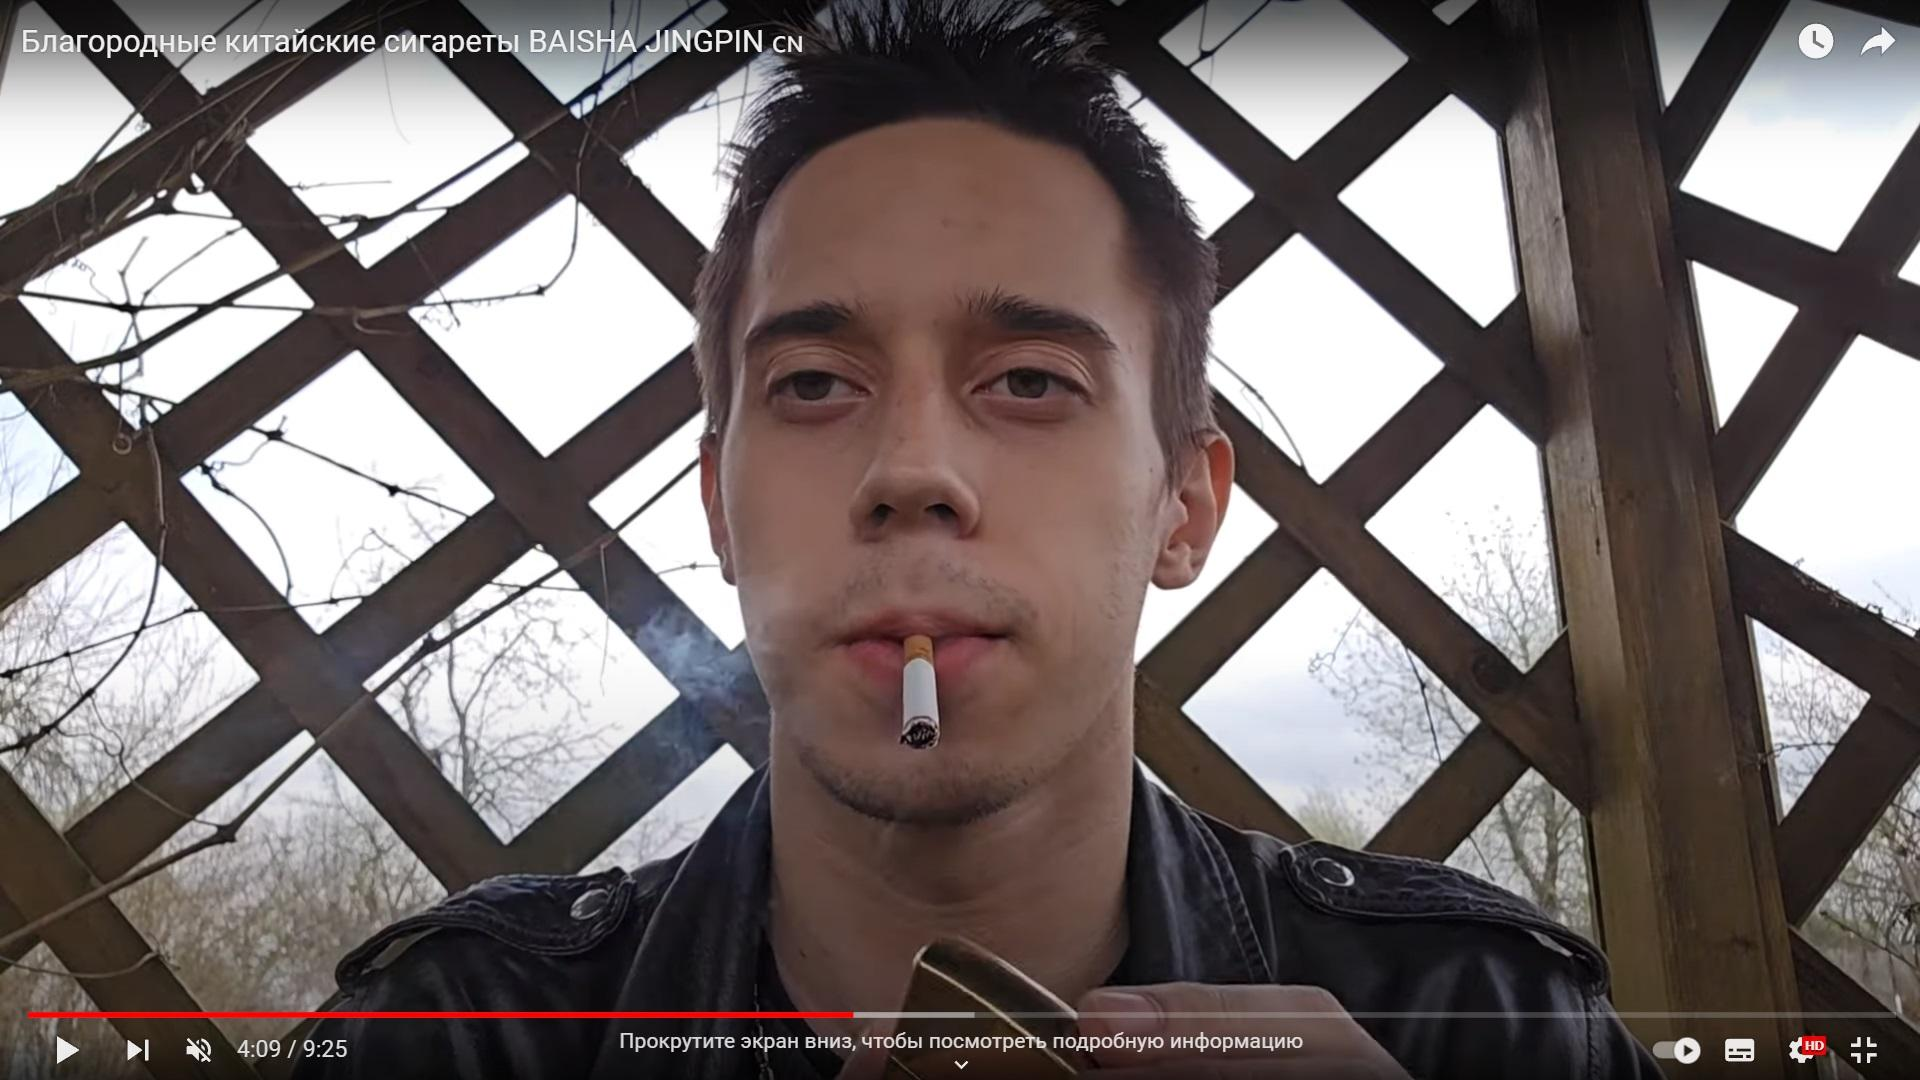cigarette: (899, 634, 942, 750)
